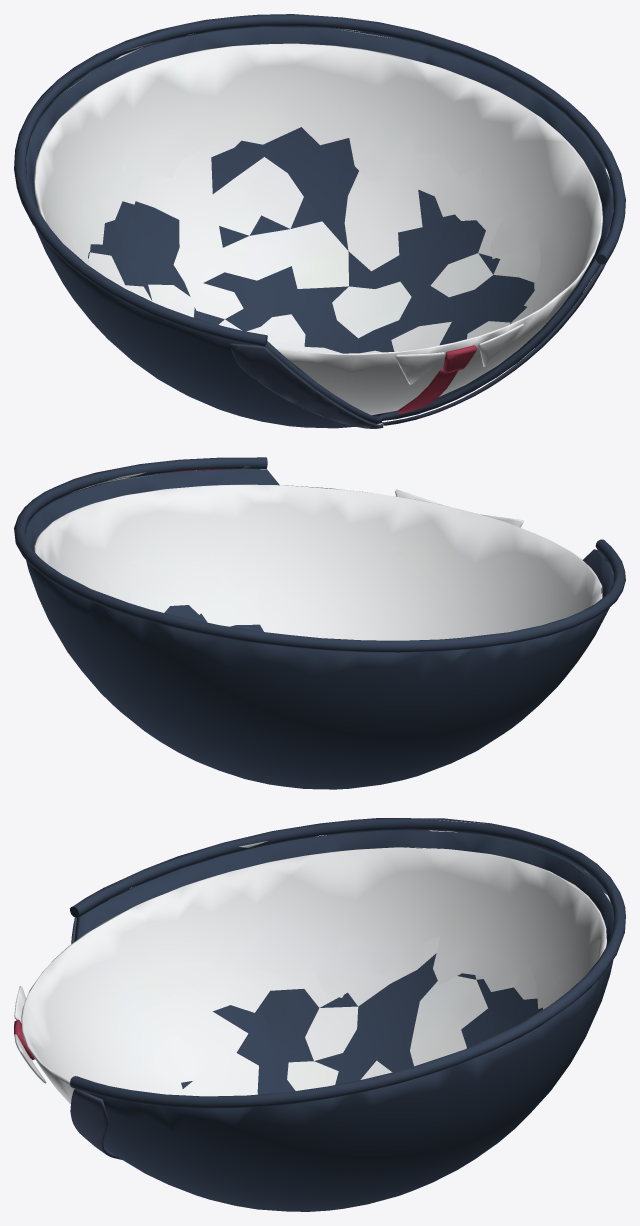
Rendered from wear-suit.glb.
3 renders of one model, top to bottom at view 1: azimuth 30°, elevation 25°; view 2: azimuth 150°, elevation 25°; view 3: azimuth 270°, elevation 25°, orthographic. The views are drawn at different scales.
Parts seen in each view (by area): view 1: suit; view 2: suit; view 3: suit.
Part boxes in pixels (x1,y1,x2,y2): suit: [14, 14, 625, 428]; suit: [14, 457, 625, 789]; suit: [14, 818, 625, 1211].
Size of the model in its own units: 2.07 by 0.9618 by 1.99.
1 material, 1 textured.
